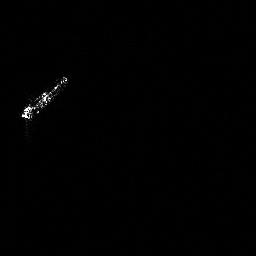ship: (20, 74, 69, 119)
